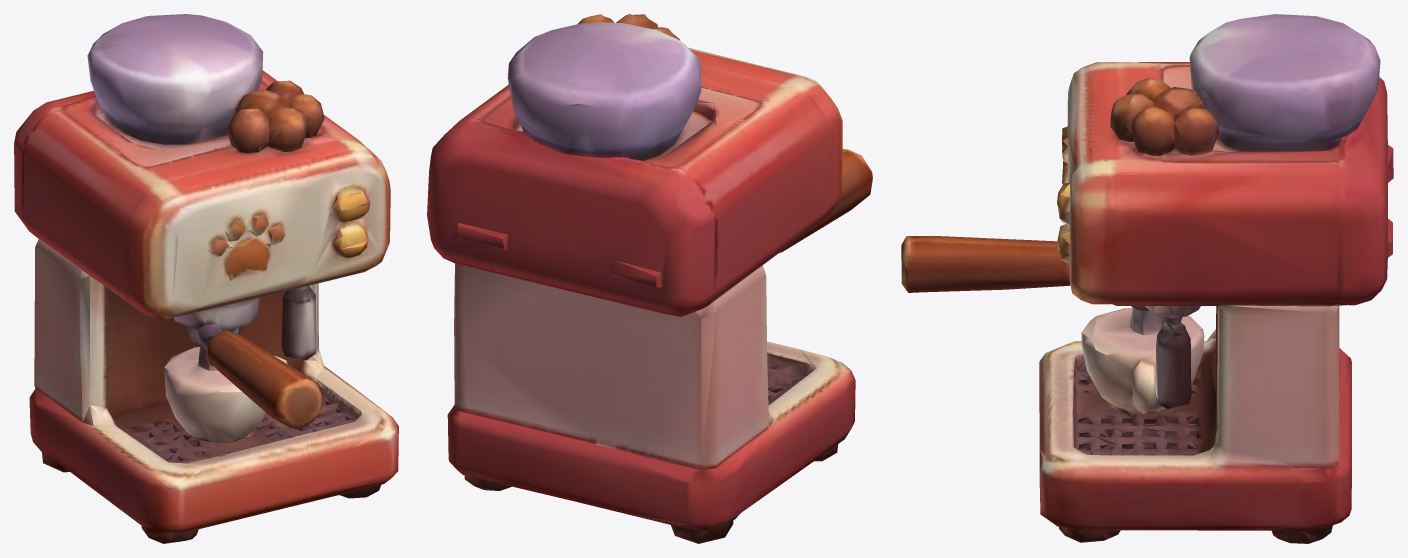
The model's file is appl01.glb.
3 views of the same model, side by side, from view 1: azimuth 30°, elevation 25°; view 2: azimuth 150°, elevation 25°; view 3: azimuth 270°, elevation 25° (orthographic). The views are drawn at different scales.
Size of the model in its own units: 0.1925 by 0.2951 by 0.2936.
Materials: 1 (1 with a texture image).
